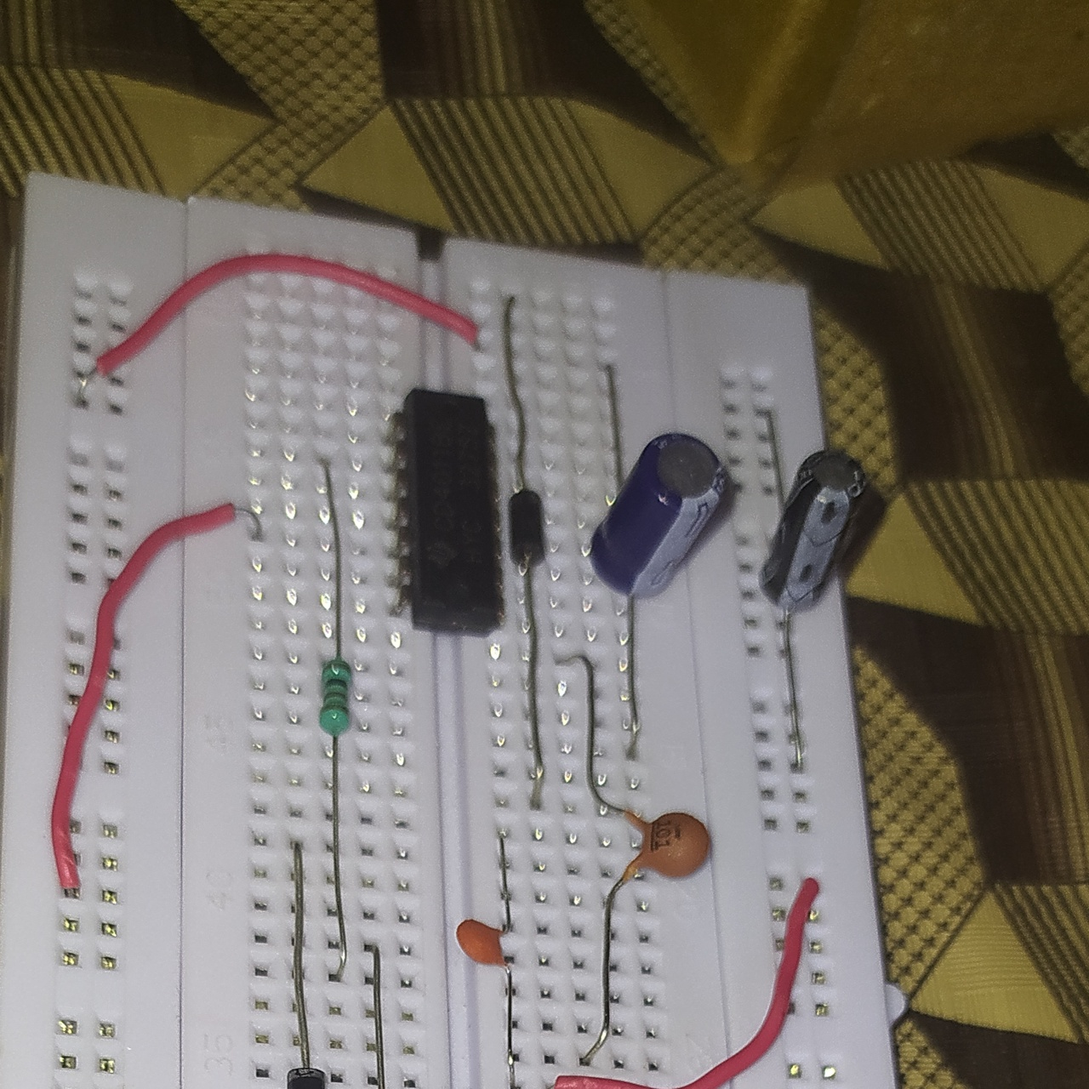capacitor: (589, 430, 727, 597), (758, 449, 865, 614), (625, 812, 712, 880), (453, 915, 508, 966)
resistor: (321, 656, 350, 741)
